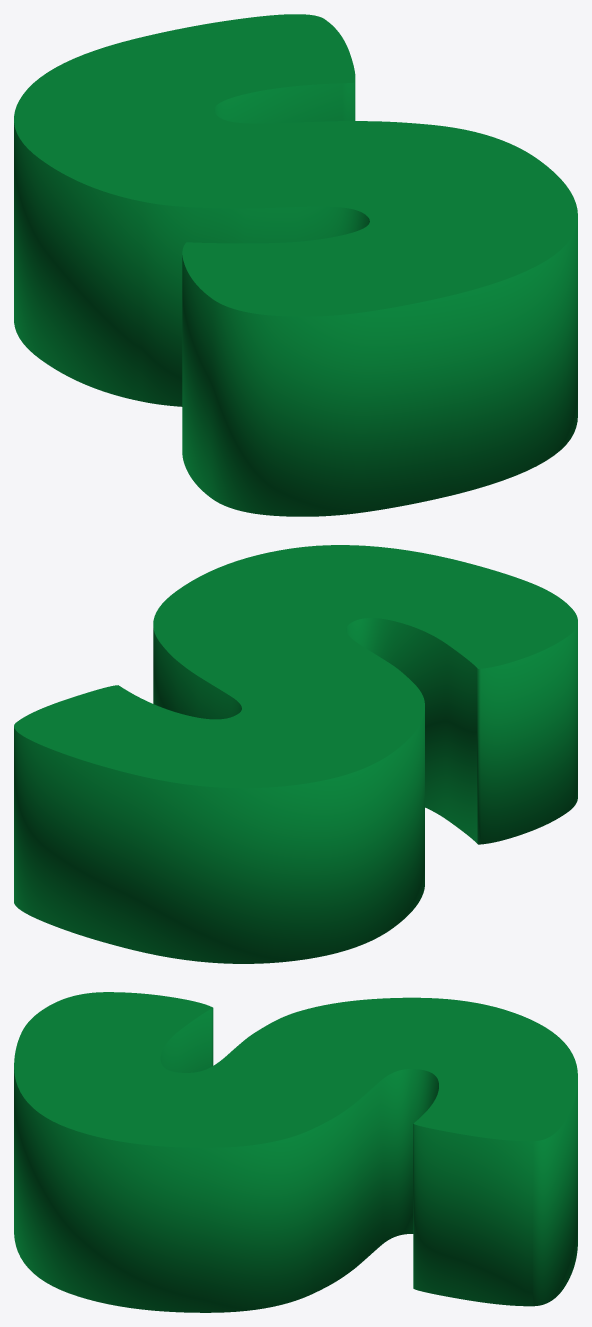
3 views of the same model, one above another, from view 1: azimuth 30°, elevation 25°; view 2: azimuth 150°, elevation 25°; view 3: azimuth 270°, elevation 25° (orthographic). The views are drawn at different scales.
Visible parts, largest first — view 1: s; view 2: s; view 3: s.
Boxes of the visible parts, box(x1,y1,x2,y2) form: s: box(14, 14, 577, 516); s: box(14, 545, 577, 963); s: box(14, 992, 577, 1312).
Size of the model in its own units: 0.2053 by 0.1014 by 0.3141.
